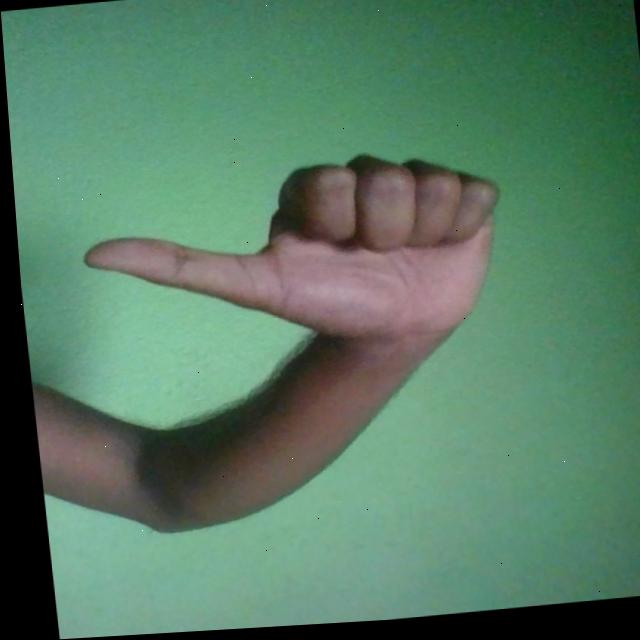Dislike: (70, 145, 510, 376)
